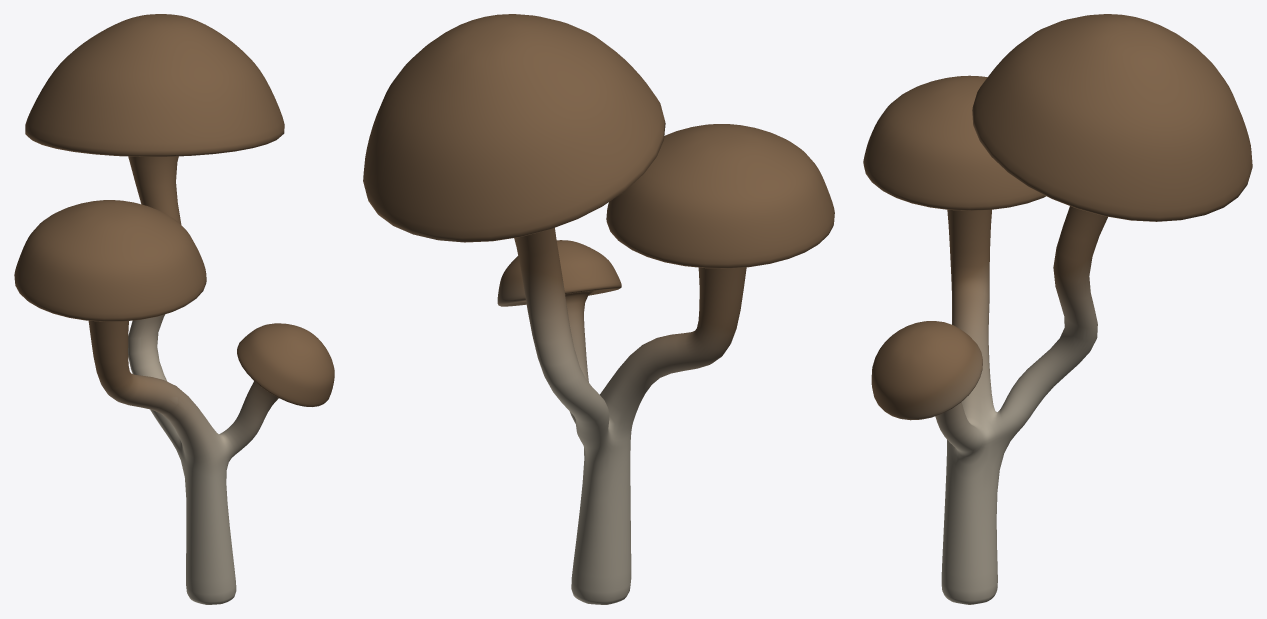
Rendered from Brown mushrooms.fbx.
3 renders of one model, left to right at view 1: azimuth 30°, elevation 25°; view 2: azimuth 150°, elevation 25°; view 3: azimuth 270°, elevation 25°, orthographic. The views are drawn at different scales.
Visible parts, largest first — view 1: mushroom.011; view 2: mushroom.011; view 3: mushroom.011.
Boxes of the visible parts, box(x1,y1,x2,y2) form: mushroom.011: box(14, 14, 334, 604); mushroom.011: box(363, 14, 834, 604); mushroom.011: box(863, 14, 1252, 604).
Size of the model in its own units: 60.32 by 99.39 by 60.53.
